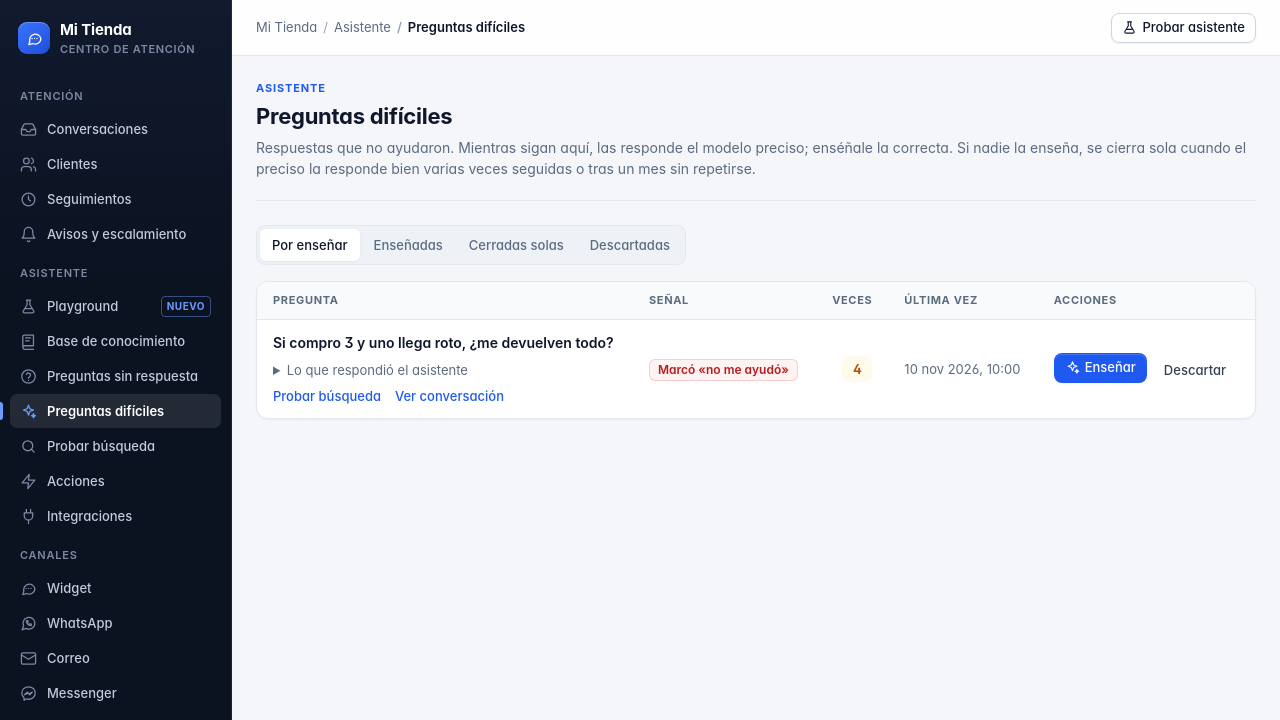
Difficult questions › shows why each question was difficult and teaches its answer
Expected: the text "Marcó «no me ayudó»" is shown, [649,359,798,381]
Expected: the text "4" is shown, [842,356,872,382]
Click the button "Enseñar": (1100, 368) [1054,353,1147,383]
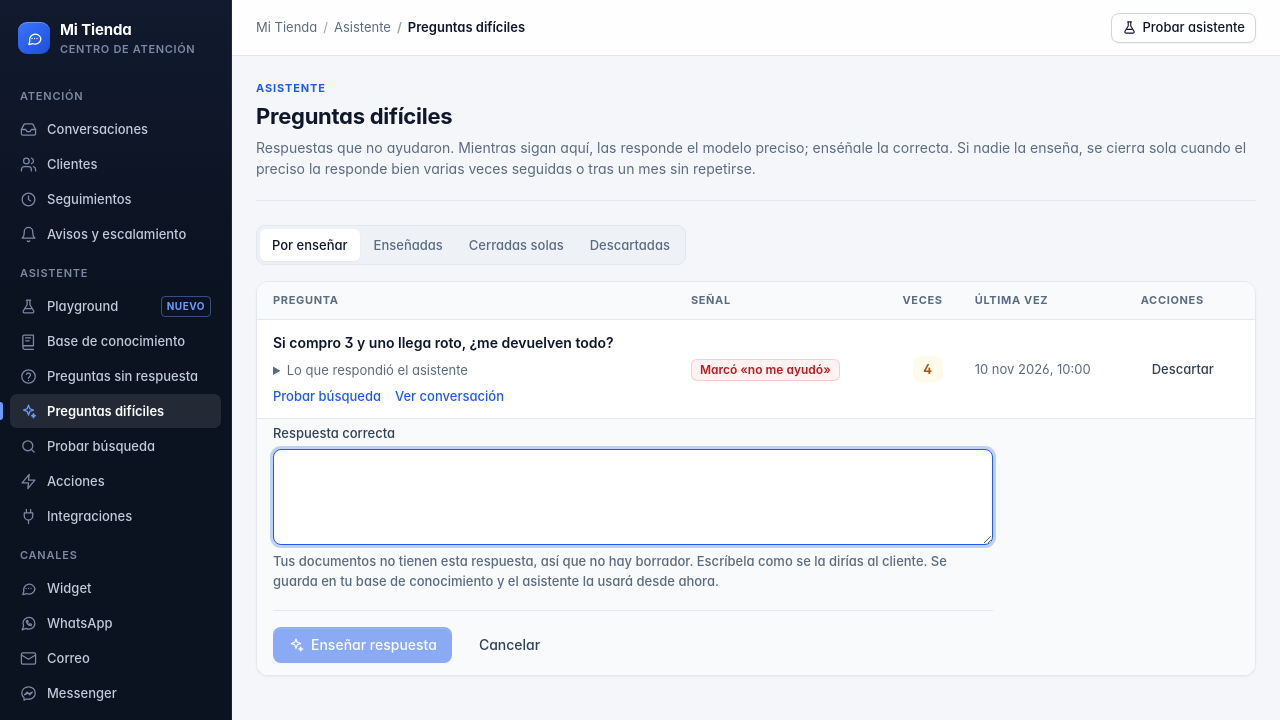
In the text box: (633, 497) [273,449,993,545], type "Te devolvemos solo el que llegó roto."
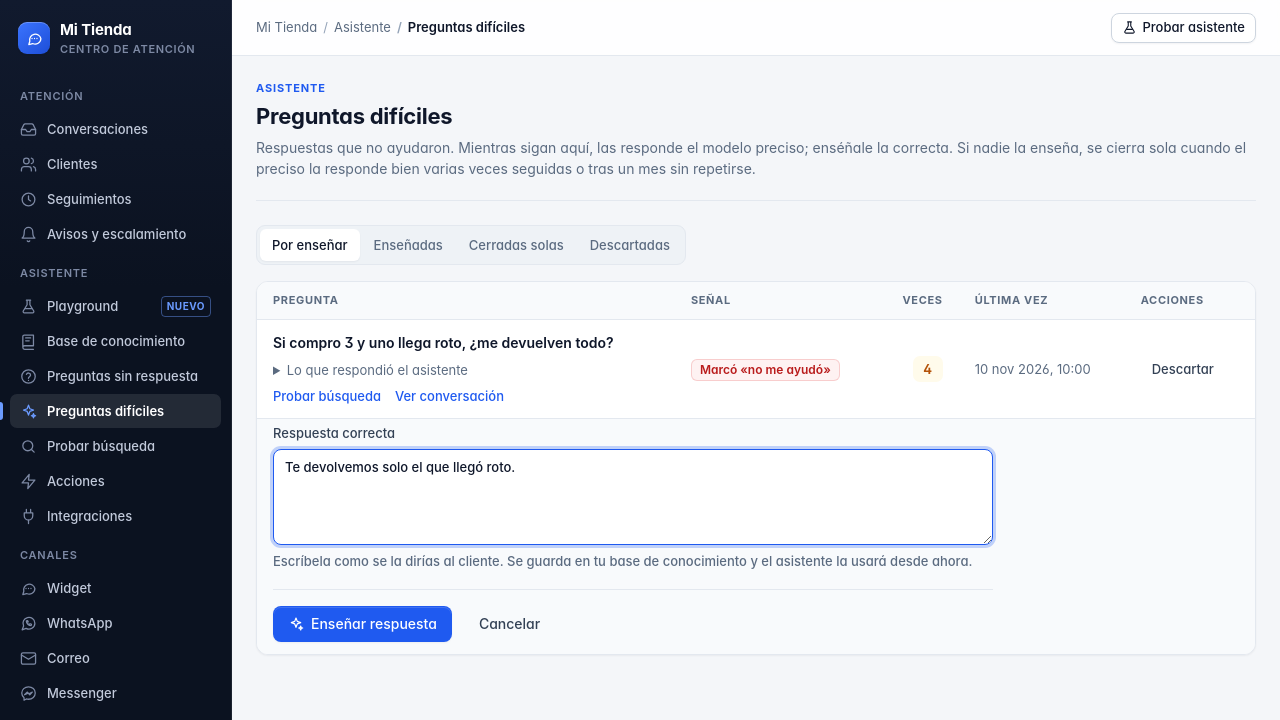
Click the button "Enseñar respuesta": (362, 624) [273,606,452,642]
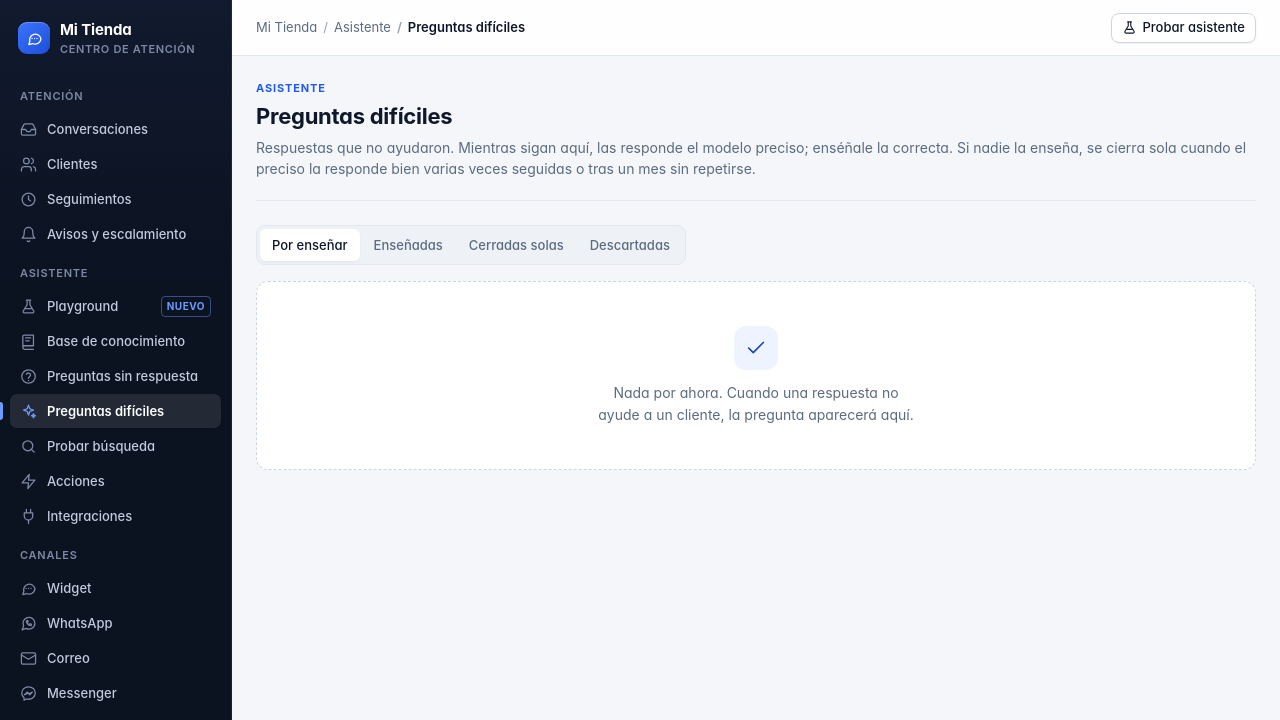
Result: the text "Nada por ahora" is shown at [598,384,914,423]
